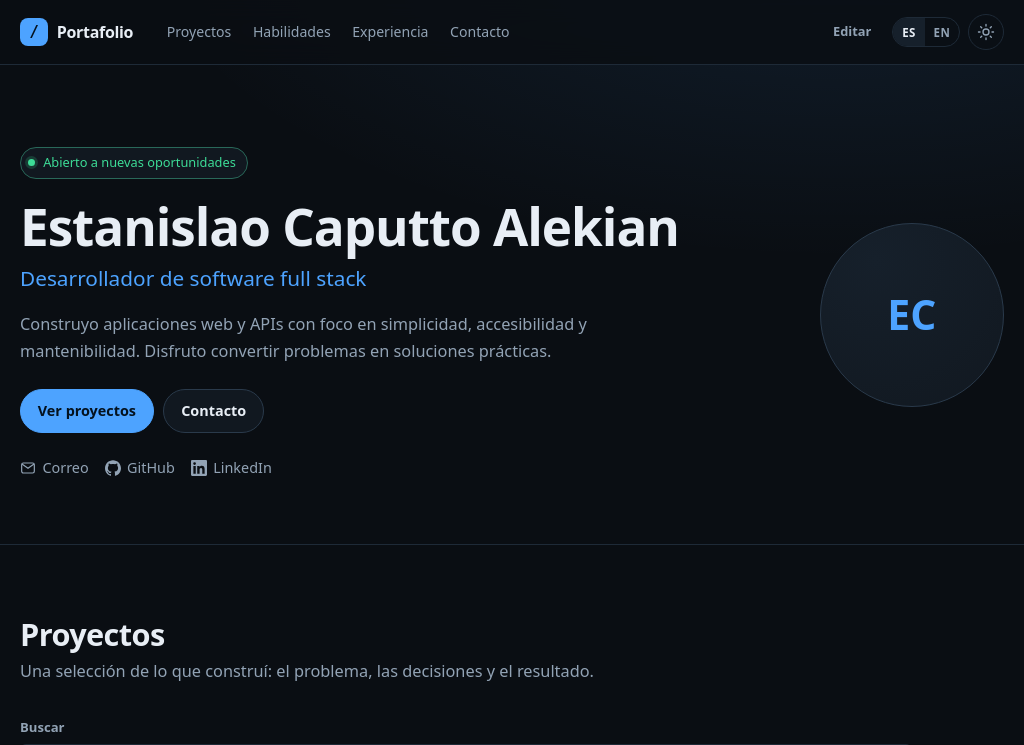
Scenario: App › cambia de idioma sin recargar
The width and height of the screenshot is (1024, 745).
Click the button with aria-label "English". click: coordinates (942, 32)
box: [925, 18, 959, 46]
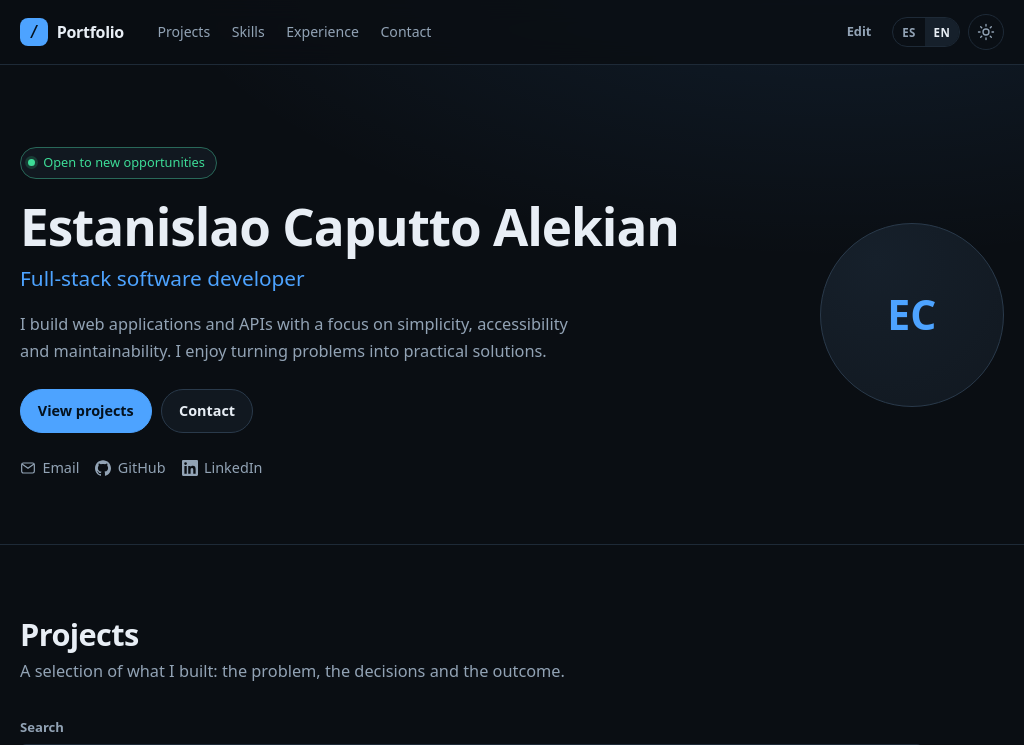
Expected: the heading "Estanislao Caputto Alekian" is shown, [20, 196, 768, 255]
Expected: the link "Projects" is shown, [157, 22, 210, 41]
